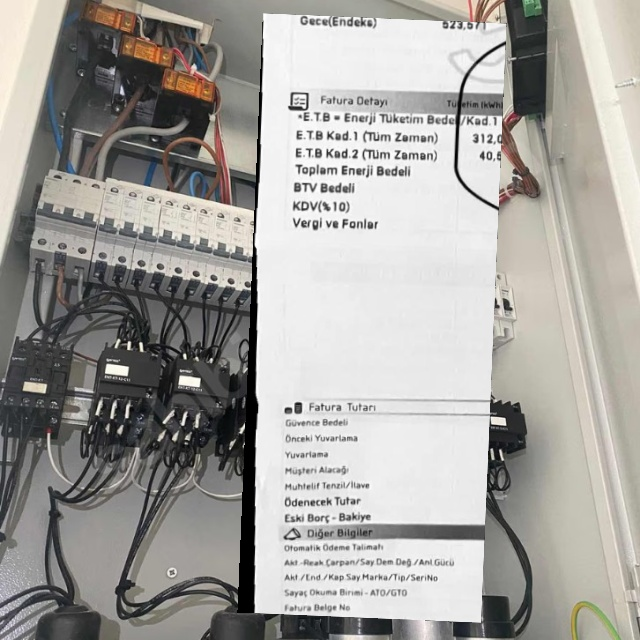electricity-bill: (237, 13, 507, 623)
